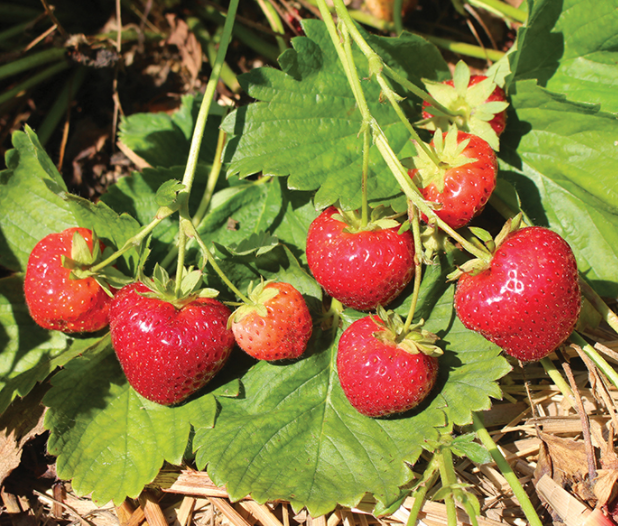ripe: (452, 226, 585, 364), (107, 276, 241, 407), (304, 199, 421, 313), (17, 223, 124, 336), (335, 309, 443, 419), (406, 130, 501, 228), (229, 280, 313, 363), (422, 73, 508, 140)
